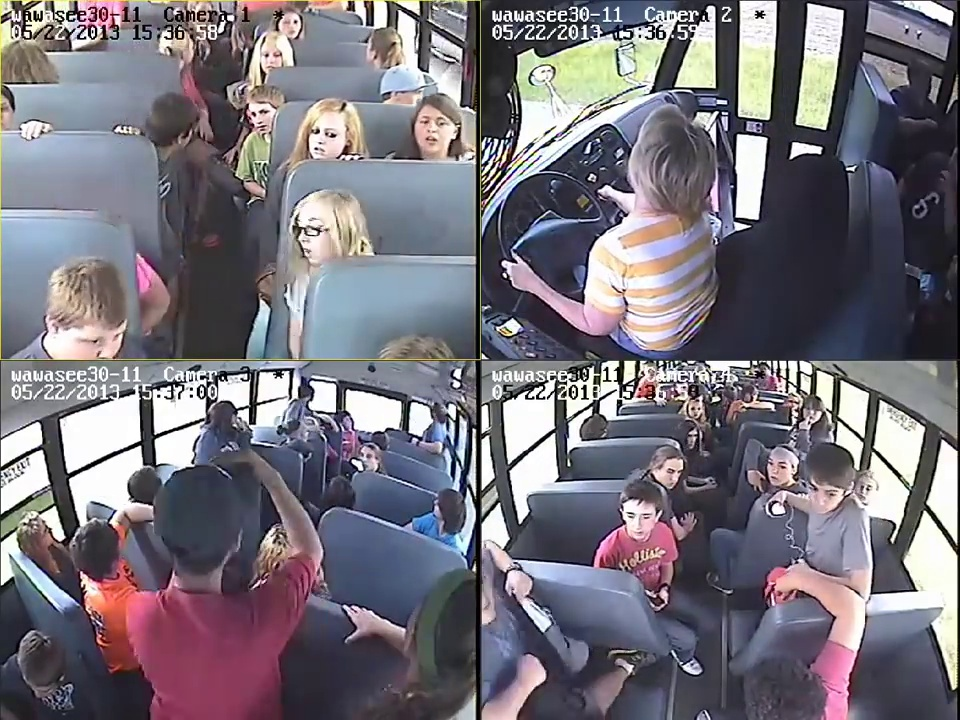face: (56, 319, 125, 359), (294, 211, 334, 261), (307, 116, 344, 158), (417, 110, 451, 152), (246, 91, 276, 136), (621, 503, 654, 536), (809, 478, 842, 511), (767, 453, 791, 483), (261, 43, 281, 71), (356, 447, 379, 471), (802, 402, 823, 426), (662, 463, 681, 489), (853, 479, 874, 502), (282, 12, 300, 38), (686, 426, 697, 455), (686, 403, 702, 418)
